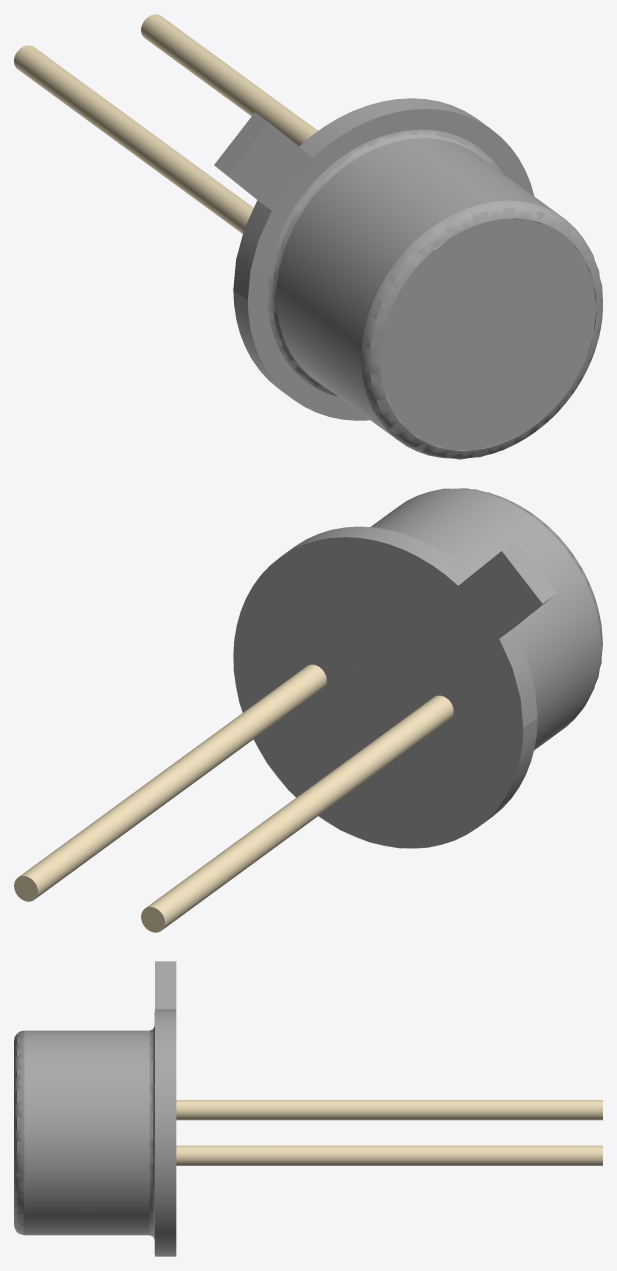
3 views of the same model, one above another, from view 1: azimuth 30°, elevation 25°; view 2: azimuth 150°, elevation 25°; view 3: azimuth 270°, elevation 25° (orthographic). The views are drawn at different scales.
Parts seen in each view (by area): view 1: Shape_IndexedFaceSet.017, Shape_IndexedFaceSet.013, Shape_IndexedFaceSet.008, Shape_IndexedFaceSet.016, Shape_IndexedFaceSet.012, Shape_IndexedFaceSet.011, Shape_IndexedFaceSet.010, Shape_IndexedFaceSet.004, Shape_IndexedFaceSet.006, Shape_IndexedFaceSet.005, Shape_IndexedFaceSet; view 2: Shape_IndexedFaceSet.009, Shape_IndexedFaceSet.013, Shape_IndexedFaceSet.011, Shape_IndexedFaceSet.012, Shape_IndexedFaceSet.007, Shape_IndexedFaceSet.006, Shape_IndexedFaceSet.003, Shape_IndexedFaceSet.005, Shape_IndexedFaceSet, Shape_IndexedFaceSet.016; view 3: Shape_IndexedFaceSet.013, Shape_IndexedFaceSet.011, Shape_IndexedFaceSet.012, Shape_IndexedFaceSet.006, Shape_IndexedFaceSet.016, Shape_IndexedFaceSet.010, Shape_IndexedFaceSet.002.
Part boxes in pixels (x1=…): Shape_IndexedFaceSet.017: x1=380, y1=219, x2=596, y2=450; Shape_IndexedFaceSet.013: x1=276, y1=138, x2=596, y2=450; Shape_IndexedFaceSet.008: x1=247, y1=109, x2=534, y2=420; Shape_IndexedFaceSet.016: x1=361, y1=200, x2=602, y2=459; Shape_IndexedFaceSet.012: x1=14, y1=45, x2=253, y2=233; Shape_IndexedFaceSet.011: x1=141, y1=14, x2=453, y2=250; Shape_IndexedFaceSet.010: x1=267, y1=129, x2=514, y2=396; Shape_IndexedFaceSet.004: x1=228, y1=123, x2=312, y2=210; Shape_IndexedFaceSet.006: x1=233, y1=98, x2=488, y2=398; Shape_IndexedFaceSet.005: x1=233, y1=200, x2=271, y2=299; Shape_IndexedFaceSet: x1=214, y1=112, x2=268, y2=175; Shape_IndexedFaceSet.009: x1=233, y1=537, x2=523, y2=848; Shape_IndexedFaceSet.013: x1=371, y1=488, x2=600, y2=750; Shape_IndexedFaceSet.011: x1=19, y1=664, x2=326, y2=898; Shape_IndexedFaceSet.012: x1=146, y1=695, x2=453, y2=929; Shape_IndexedFaceSet.007: x1=358, y1=586, x2=498, y2=718; Shape_IndexedFaceSet.006: x1=233, y1=526, x2=537, y2=848; Shape_IndexedFaceSet.003: x1=458, y1=551, x2=542, y2=638; Shape_IndexedFaceSet.005: x1=499, y1=628, x2=537, y2=727; Shape_IndexedFaceSet: x1=502, y1=540, x2=556, y2=603; Shape_IndexedFaceSet.016: x1=433, y1=488, x2=602, y2=706; Shape_IndexedFaceSet.013: x1=24, y1=1030, x2=149, y2=1235; Shape_IndexedFaceSet.011: x1=176, y1=1145, x2=602, y2=1165; Shape_IndexedFaceSet.012: x1=176, y1=1100, x2=602, y2=1120; Shape_IndexedFaceSet.006: x1=155, y1=1009, x2=176, y2=1256; Shape_IndexedFaceSet.016: x1=14, y1=1030, x2=24, y2=1235; Shape_IndexedFaceSet.010: x1=149, y1=1026, x2=154, y2=1239; Shape_IndexedFaceSet.002: x1=155, y1=961, x2=176, y2=1009.
Size of the model in its own units: 2.44 by 2.44 by 5.43.
